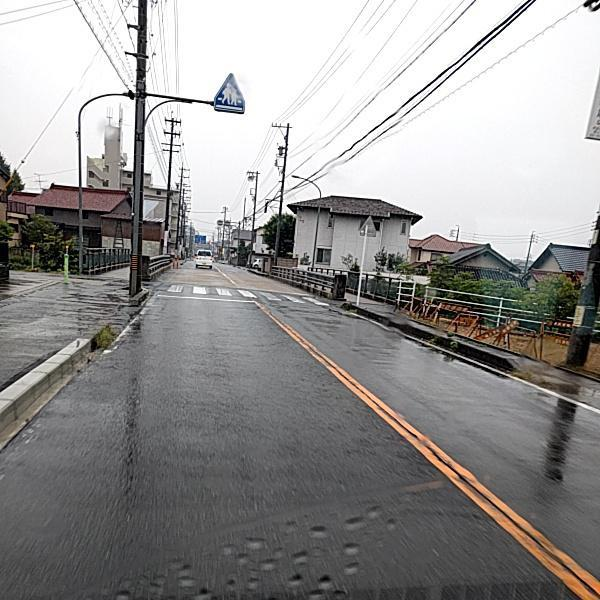D44: (267, 308, 344, 392)
